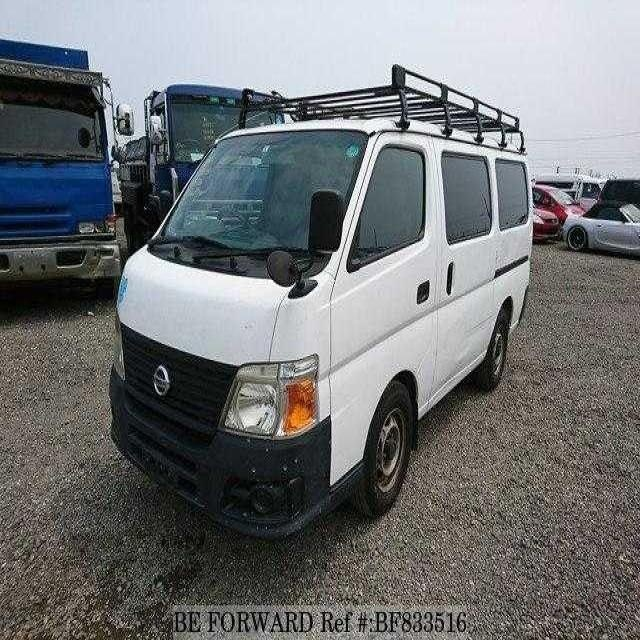Van: (108, 63, 540, 548)
